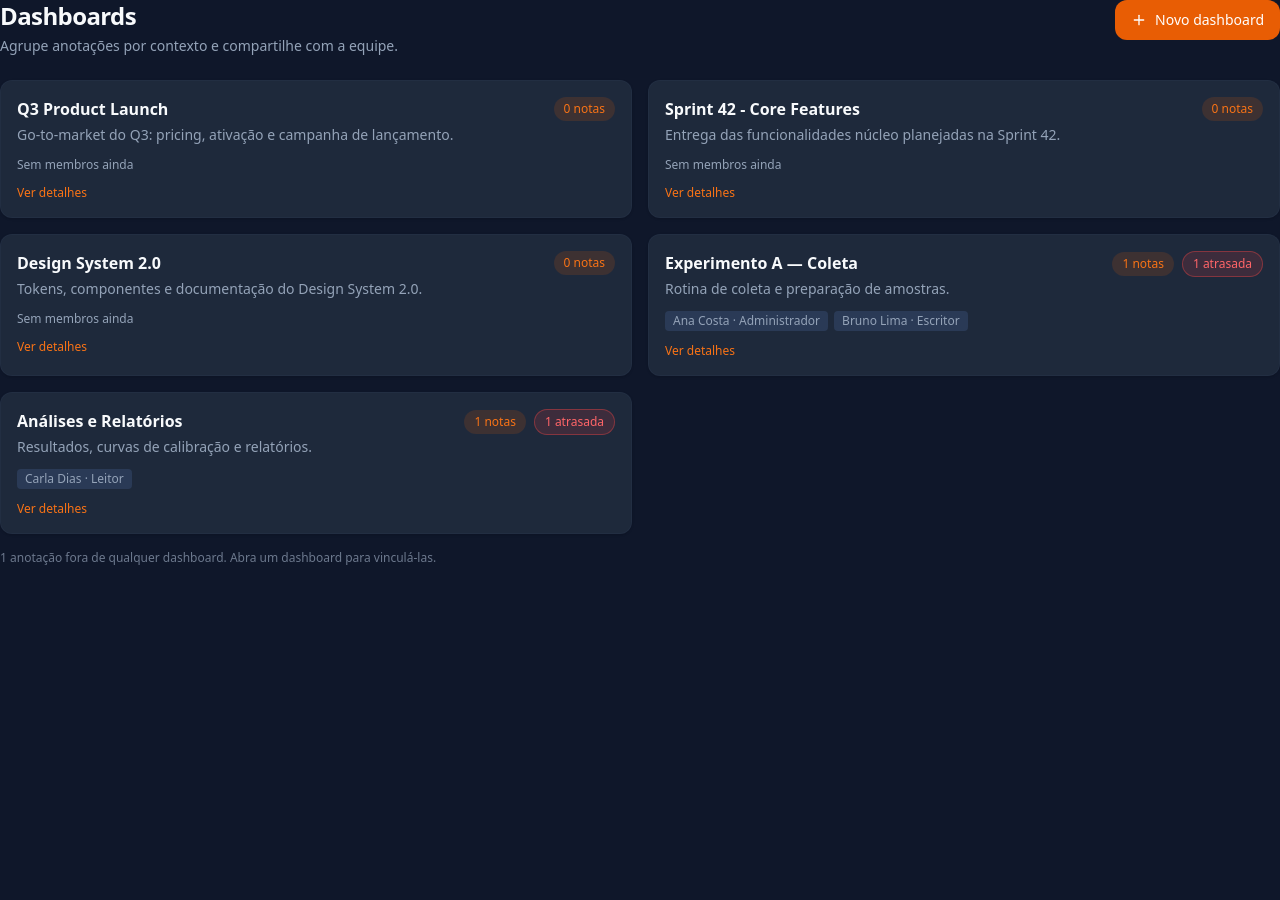
Test: Dashboards — lista de cards › cria um dashboard novo e exige o nome
Click the button "Novo dashboard".
click(1198, 20)  # box 1115,0 -> 1279,40
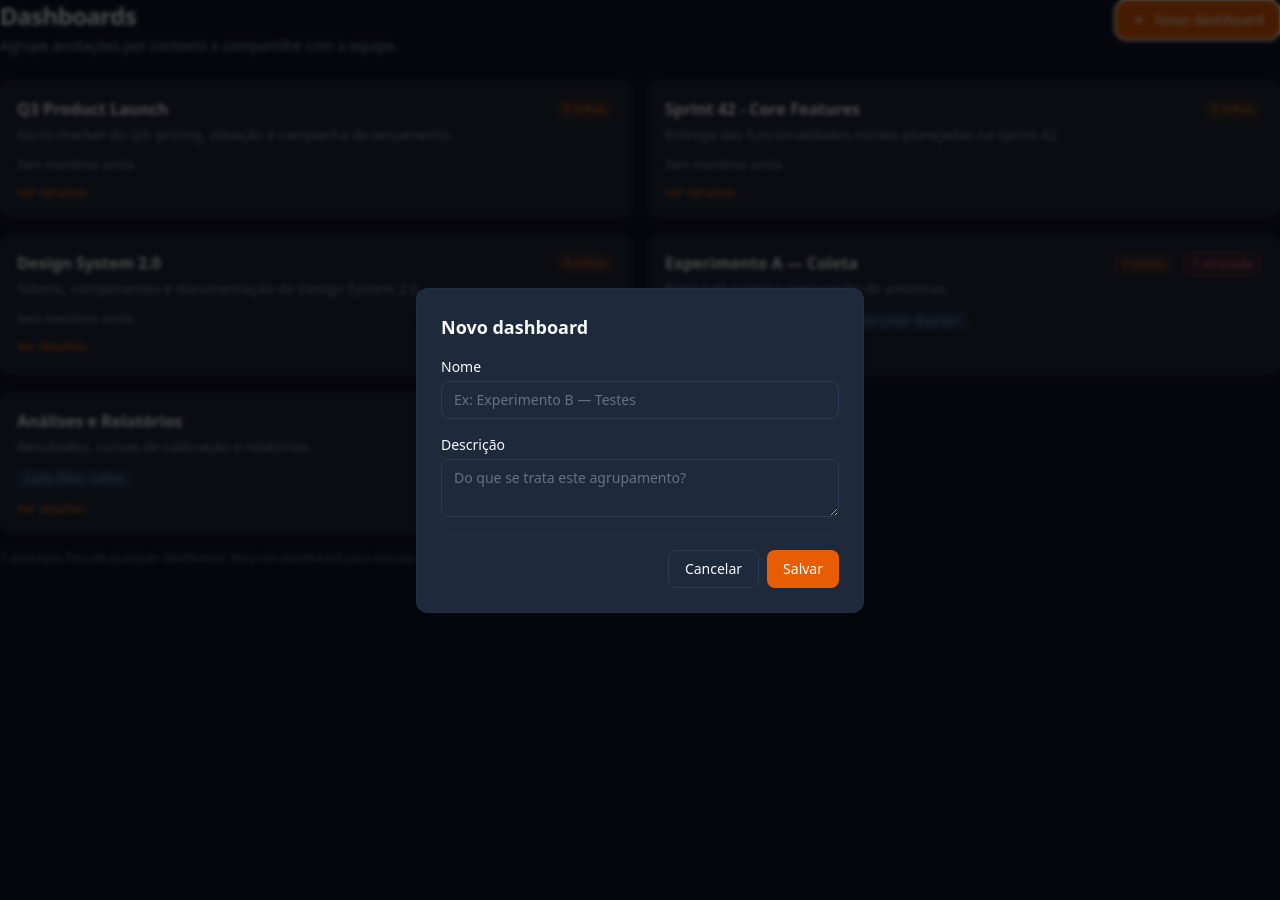
Expected: the heading "Novo dashboard" is shown, 441,314 -> 588,338
Click the button "Salvar".
click(803, 568)  # box 767,550 -> 839,588
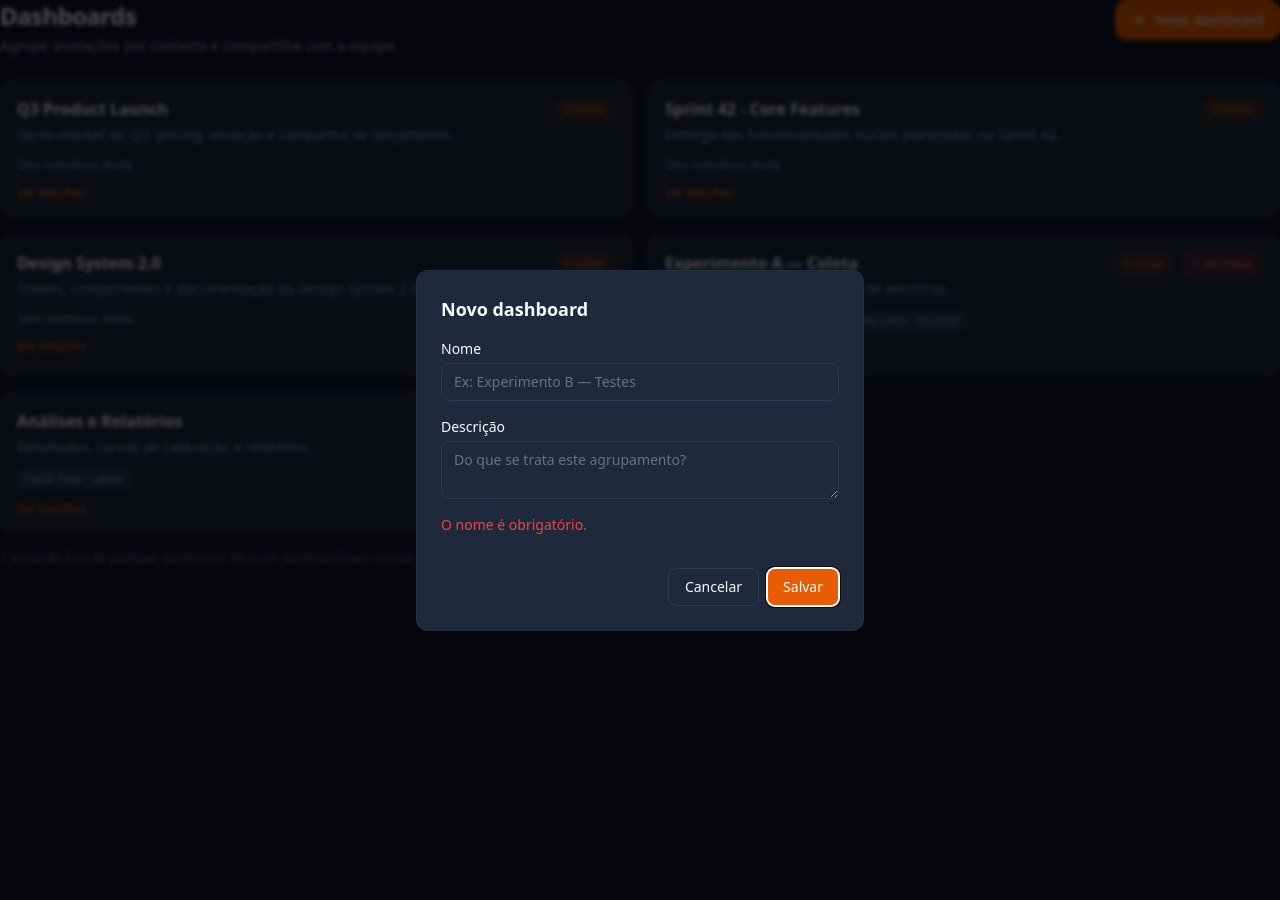
Expected: the text "O nome é obrigatório." is shown, 441,514 -> 587,534
Type "Experimento C — Validação" into the field with placeholder "Ex: Experimento B — Testes".
click(640, 382); type("Experimento C — Validação")  # box 441,362 -> 839,400
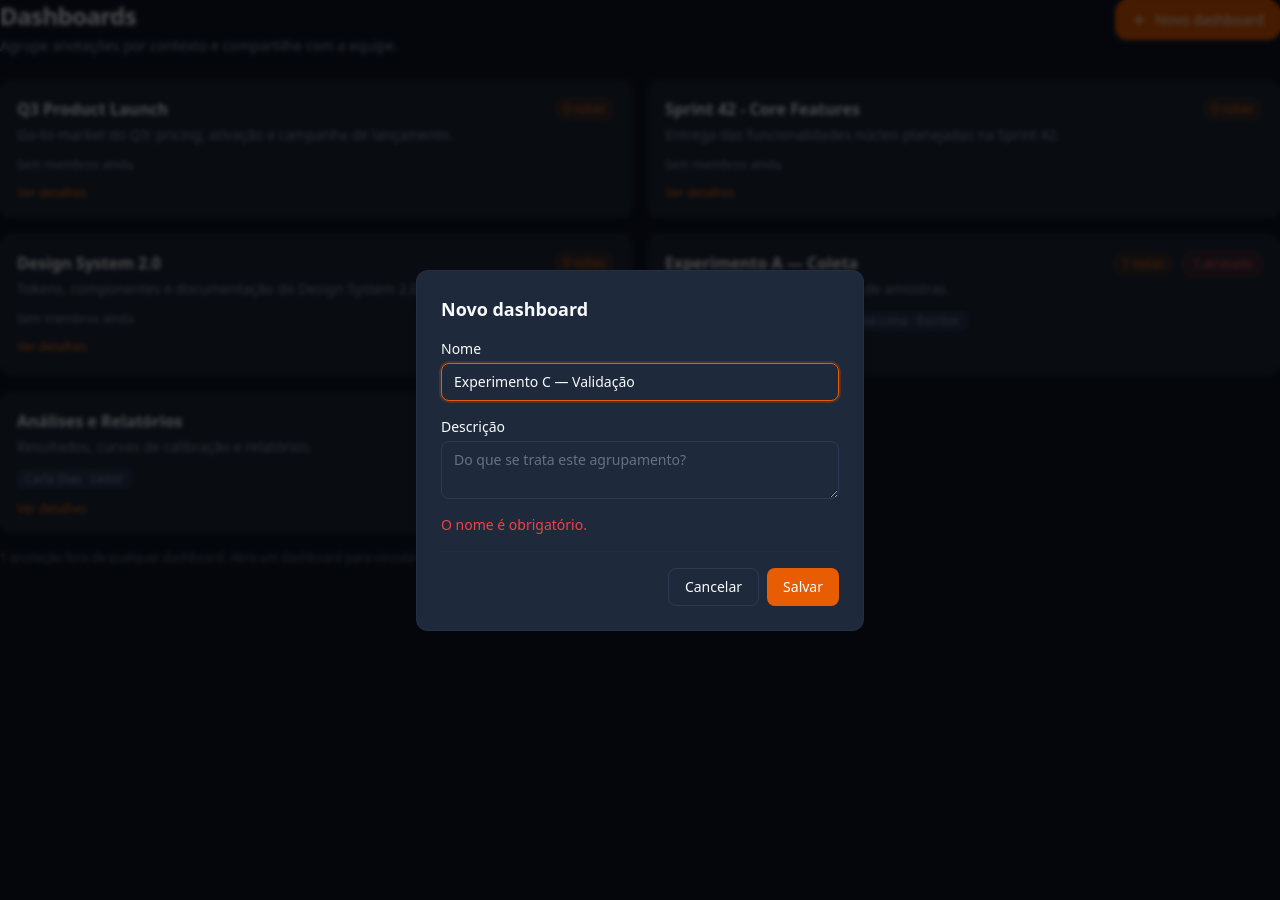
Type "Rodada de validação do método." into the text box with placeholder "Do que se trata este agrupamento?".
click(640, 470); type("Rodada de validação do método.")  # box 441,440 -> 839,498
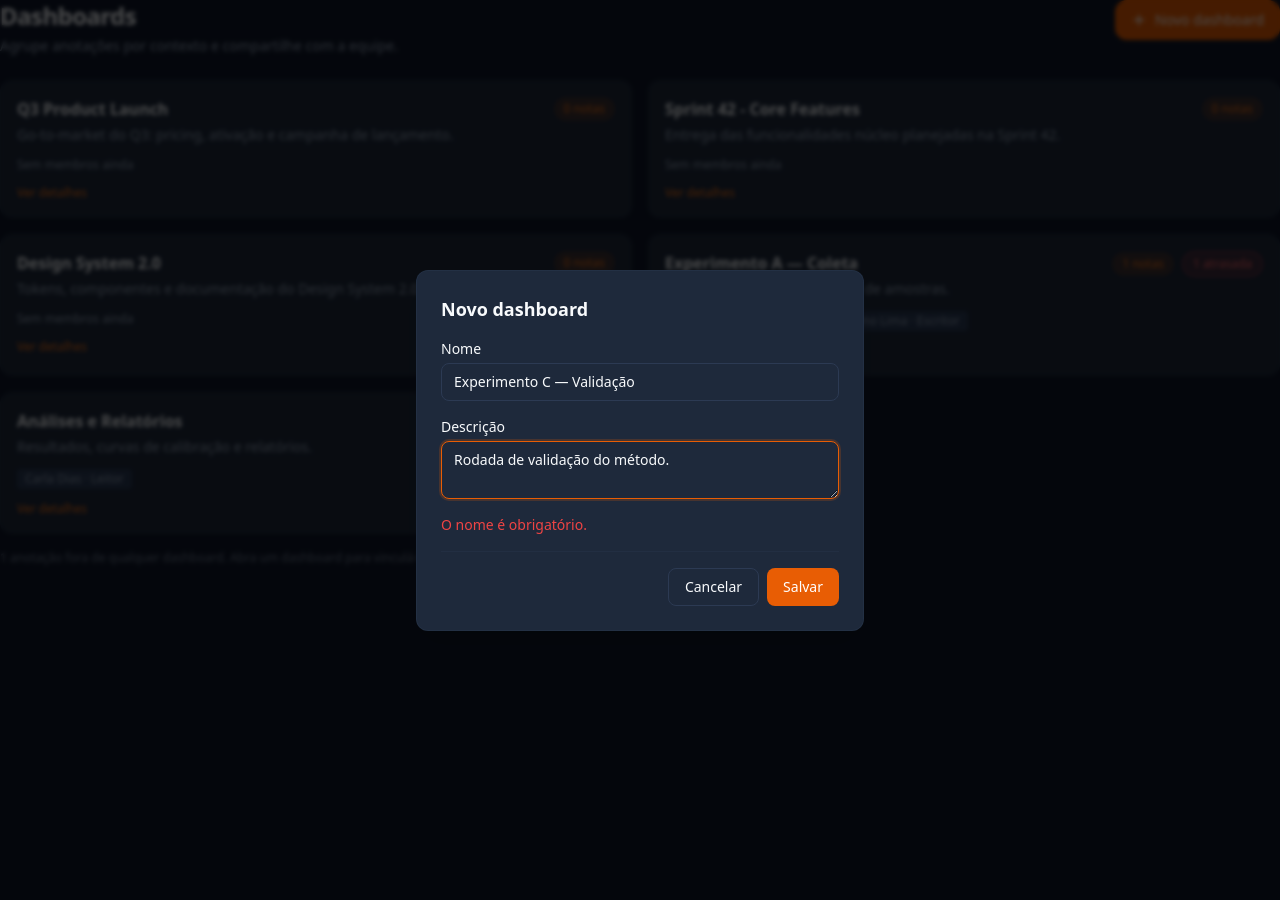
Click the button "Salvar".
click(803, 586)  # box 767,568 -> 839,606
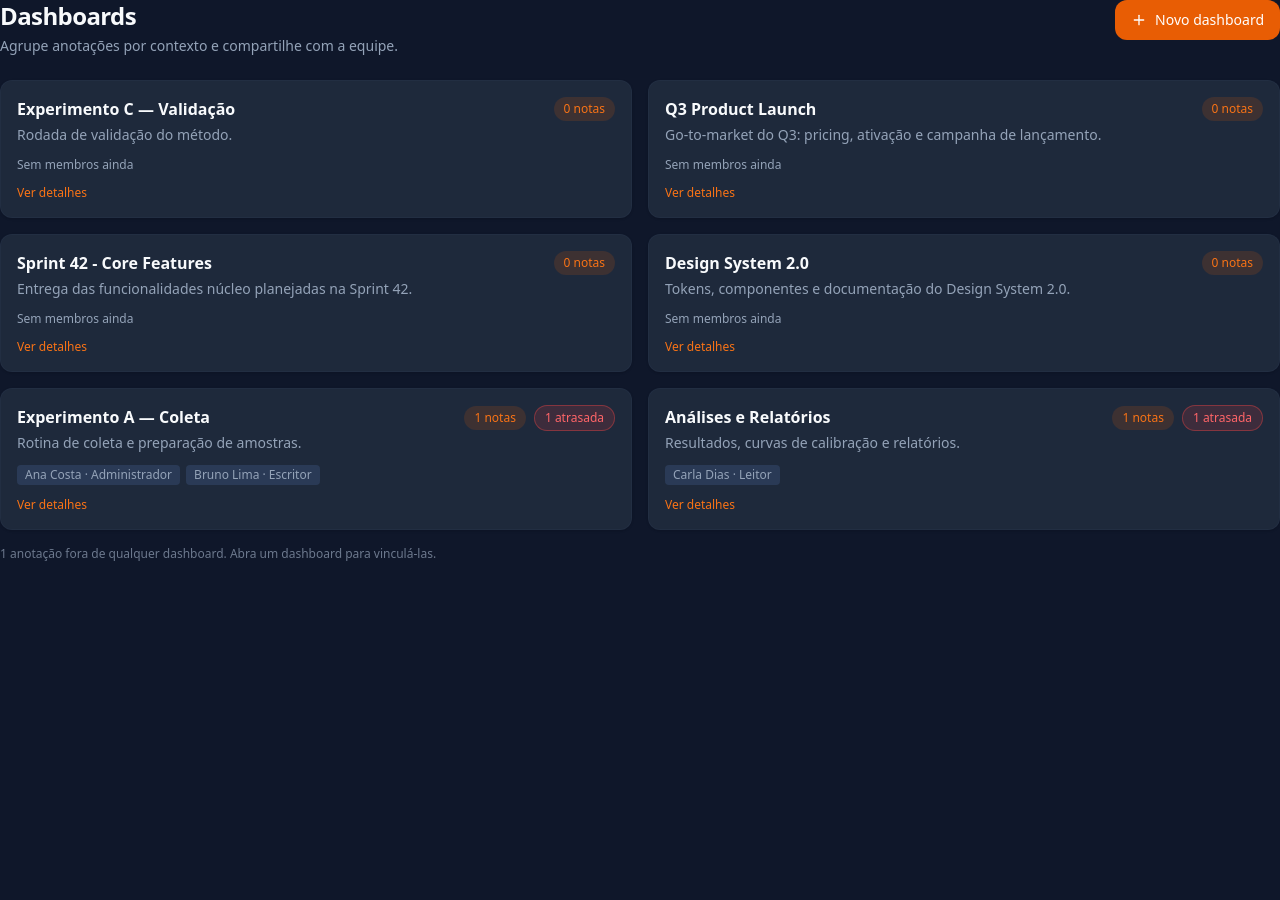
Expected: the field with placeholder "Ex: Experimento B — Testes" is not shown
Expected: the text "Rodada de validação do método." is shown, 17,125 -> 232,144
